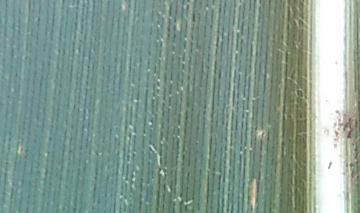tarspot: (191, 11, 196, 23)
